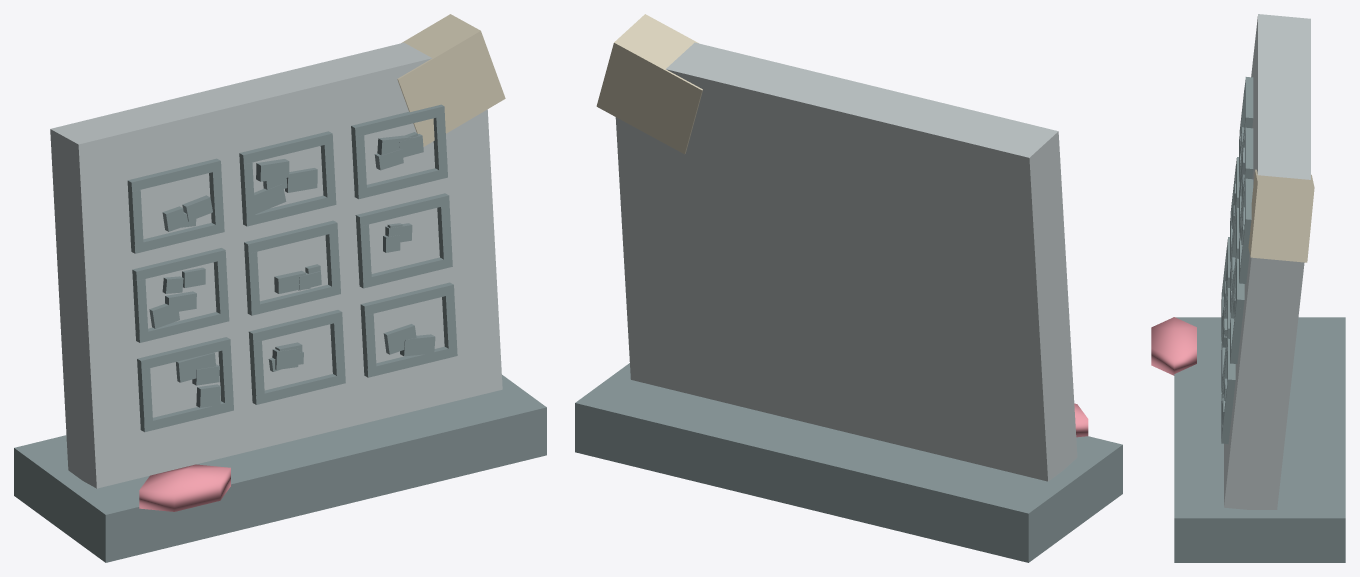
Rendered from sunken-city-and-underwater-ruins-weathered-relief-pane-563dd17d__36968.glb.
3 renders of one model, left to right at view 1: azimuth 30°, elevation 25°; view 2: azimuth 150°, elevation 25°; view 3: azimuth 270°, elevation 25°, orthographic. The views are drawn at different scales.
Parts seen in each view (by area): view 1: weathered-relief-panel; view 2: weathered-relief-panel; view 3: weathered-relief-panel.
Boxes of the visible parts, x1,y1,x2,y2 form: weathered-relief-panel: [14, 14, 546, 562]; weathered-relief-panel: [575, 14, 1122, 562]; weathered-relief-panel: [1151, 14, 1345, 562].
Bounding box in the file's own units: 2.5 × 2.15 × 1.02.
